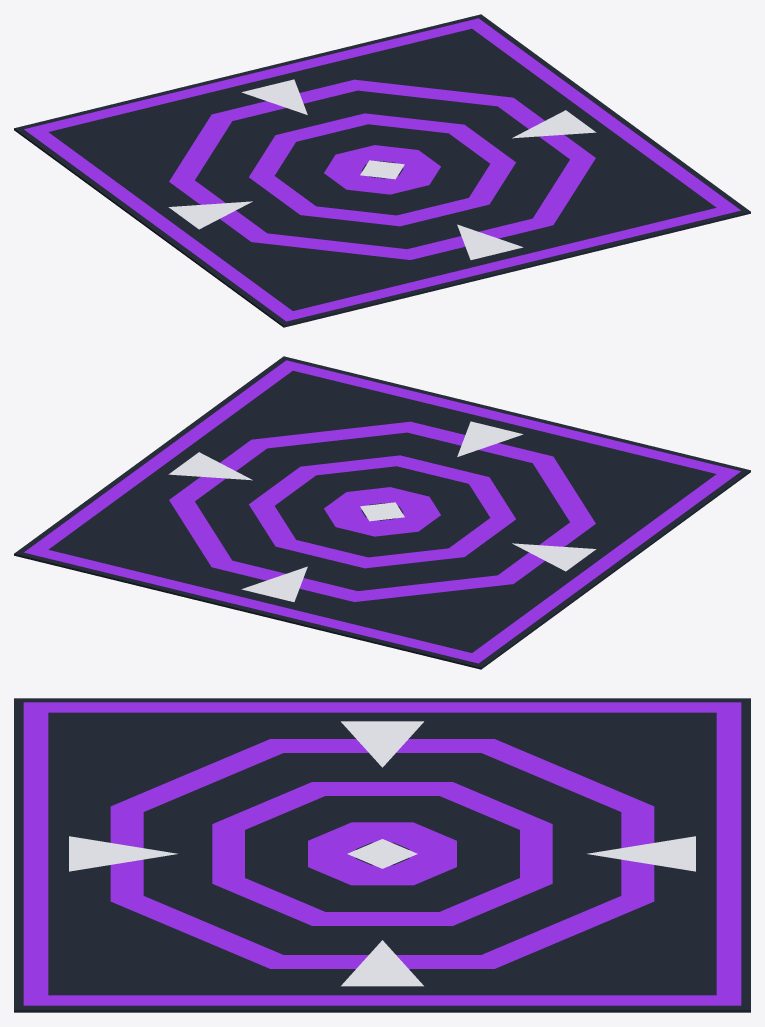
Rendered from OVL_Arena_Active_MagneticAnchor.obj.
3 renders of one model, top to bottom at view 1: azimuth 30°, elevation 25°; view 2: azimuth 150°, elevation 25°; view 3: azimuth 270°, elevation 25°, orthographic. The views are drawn at different scales.
Visible parts, largest first — view 1: OVL_Carrier_ActiveMagAnchor, OVL_ActiveMag_Border, OVL_ActiveMag_OuterRing, OVL_ActiveMag_InnerRing, OVL_ActiveMag_InwardVectors, OVL_ActiveMag_AnchorCore, OVL_ActiveMag_AnchorCenter; view 2: OVL_Carrier_ActiveMagAnchor, OVL_ActiveMag_Border, OVL_ActiveMag_OuterRing, OVL_ActiveMag_InnerRing, OVL_ActiveMag_InwardVectors, OVL_ActiveMag_AnchorCore, OVL_ActiveMag_AnchorCenter; view 3: OVL_Carrier_ActiveMagAnchor, OVL_ActiveMag_Border, OVL_ActiveMag_OuterRing, OVL_ActiveMag_InnerRing, OVL_ActiveMag_InwardVectors, OVL_ActiveMag_AnchorCore, OVL_ActiveMag_AnchorCenter.
Part boxes in pixels (x1,y1,x2,y2): OVL_Carrier_ActiveMagAnchor: (14, 14, 750, 327); OVL_ActiveMag_Border: (24, 18, 740, 321); OVL_ActiveMag_OuterRing: (169, 79, 595, 259); OVL_ActiveMag_InnerRing: (249, 113, 515, 226); OVL_ActiveMag_InwardVectors: (168, 79, 596, 259); OVL_ActiveMag_AnchorCore: (324, 145, 440, 194); OVL_ActiveMag_AnchorCenter: (360, 160, 404, 179); OVL_Carrier_ActiveMagAnchor: (14, 356, 750, 669); OVL_ActiveMag_Border: (24, 360, 740, 663); OVL_ActiveMag_OuterRing: (169, 421, 595, 601); OVL_ActiveMag_InnerRing: (249, 455, 515, 568); OVL_ActiveMag_InwardVectors: (168, 421, 596, 601); OVL_ActiveMag_AnchorCore: (324, 487, 440, 536); OVL_ActiveMag_AnchorCenter: (360, 502, 404, 521); OVL_Carrier_ActiveMagAnchor: (14, 698, 750, 1012); OVL_ActiveMag_Border: (23, 702, 741, 1005); OVL_ActiveMag_OuterRing: (110, 739, 654, 968); OVL_ActiveMag_InnerRing: (212, 782, 552, 925); OVL_ActiveMag_InwardVectors: (69, 721, 695, 986); OVL_ActiveMag_AnchorCore: (308, 822, 456, 885); OVL_ActiveMag_AnchorCenter: (347, 839, 417, 868).
Size of the model in its own units: 11.4 by 0.05 by 11.4.
3 materials, 3 textured.
